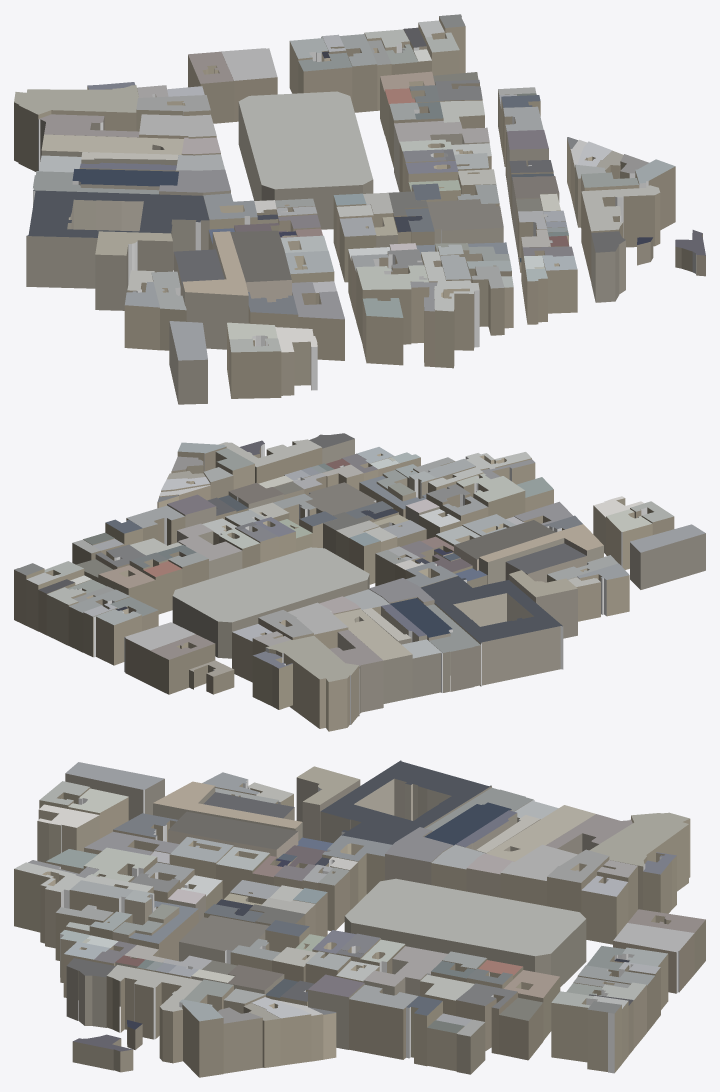
3 views of the same model, one above another, from view 1: azimuth 30°, elevation 25°; view 2: azimuth 150°, elevation 25°; view 3: azimuth 270°, elevation 25° (orthographic). The views are drawn at different scales.
Parts seen in each view (by area): view 1: tuile; view 2: tuile; view 3: tuile.
Boxes of the visible parts, x1=… form: tuile: x1=14, y1=14, x2=705, y2=404; tuile: x1=14, y1=433, x2=705, y2=731; tuile: x1=14, y1=760, x2=705, y2=1077.
Size of the model in its own units: 269 by 30.19 by 287.
